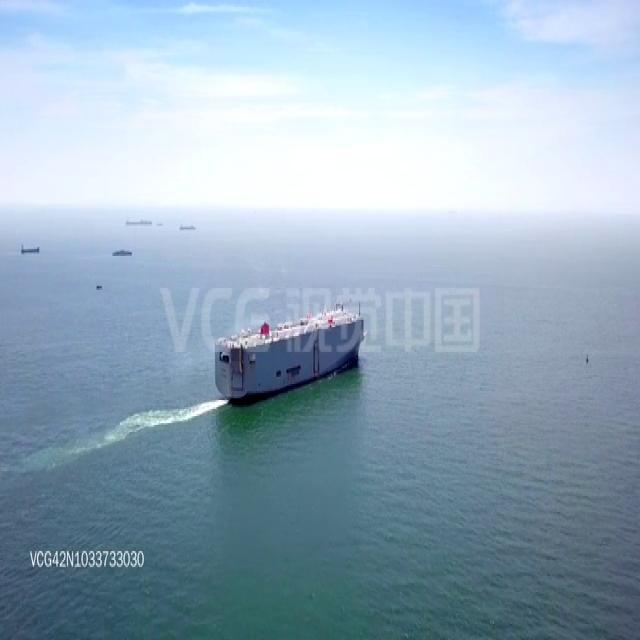cargoship: (207, 297, 367, 395), (125, 214, 152, 230), (18, 242, 42, 255), (111, 249, 133, 258), (179, 222, 197, 232), (95, 281, 104, 294), (155, 222, 164, 225)
